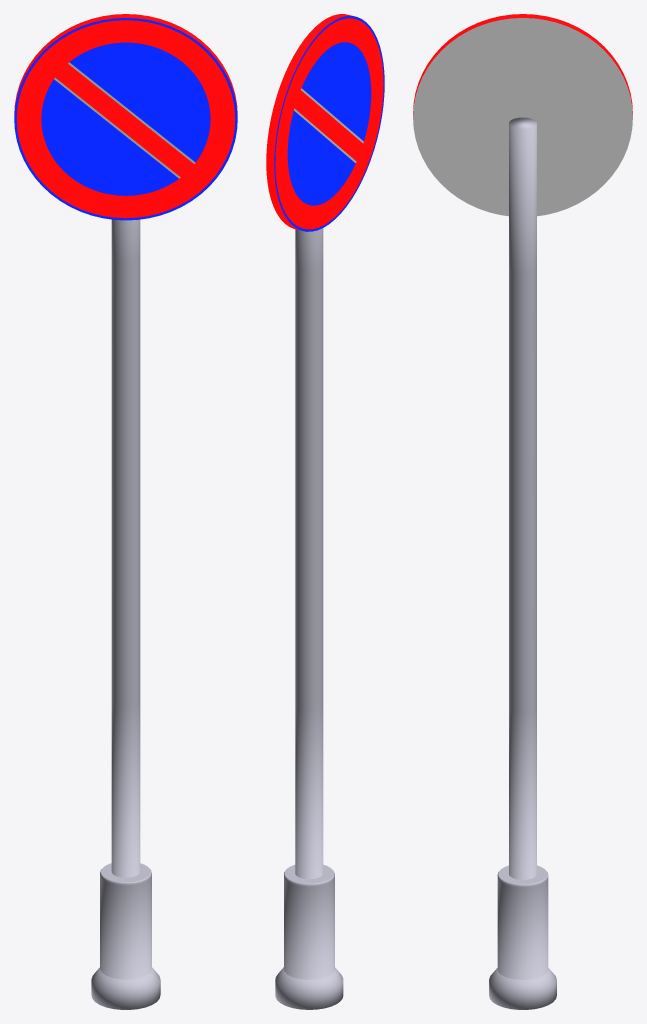
Rendered from ParkEtmekYasaktirTabelasi.dae.
3 views of the same model, side by side, from view 1: azimuth 90°, elevation 25°; view 2: azimuth 150°, elevation 25°; view 3: azimuth 270°, elevation 25° (orthographic).
Parts seen in each view (by area): view 1: NotPark_sing, NotPark_body; view 2: NotPark_body, NotPark_sing; view 3: NotPark_sing, NotPark_body.
Boxes of the visible parts, x1,y1,x2,y2 form: NotPark_sing: (14, 14, 237, 220); NotPark_body: (91, 219, 160, 1009); NotPark_body: (275, 228, 343, 1009); NotPark_sing: (266, 14, 384, 231); NotPark_sing: (413, 14, 632, 216); NotPark_body: (489, 117, 556, 1009).
Bounding box in the file's own units: 0.1839 × 0.6 × 2.93.
